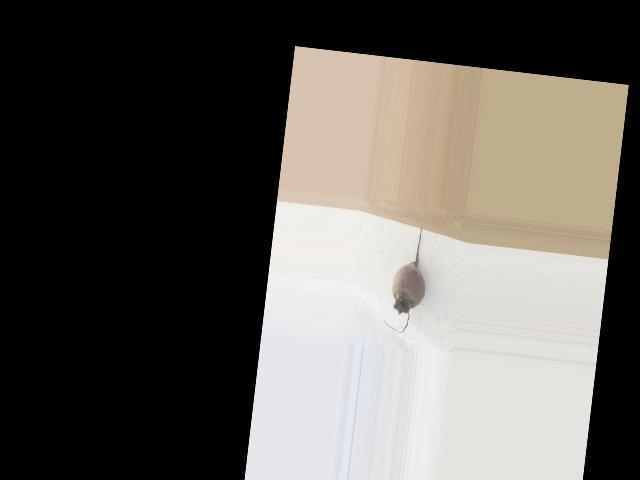beet: (383, 223, 432, 334)
